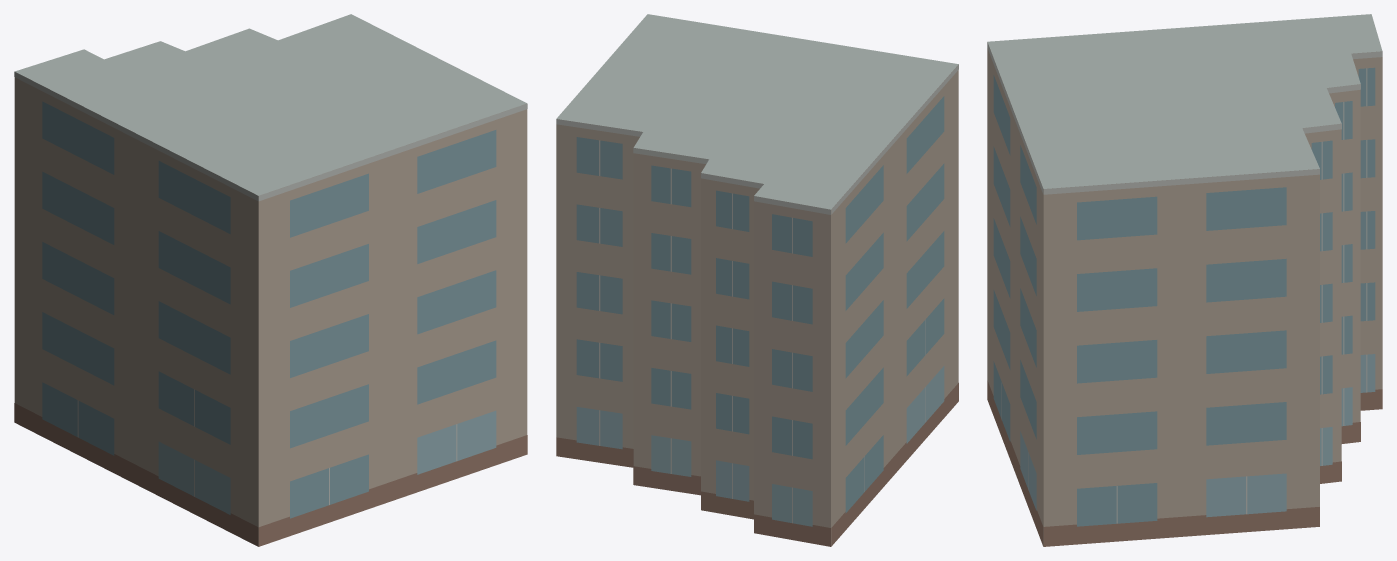
Rendered from survey-upis-32678207.glb.
3 views of the same model, side by side, from view 1: azimuth 30°, elevation 25°; view 2: azimuth 150°, elevation 25°; view 3: azimuth 270°, elevation 25° (orthographic). The views are drawn at different scales.
Parts seen in each view (by area): view 1: survey-upis-32678207.tmp; view 2: survey-upis-32678207.tmp; view 3: survey-upis-32678207.tmp.
Part boxes in pixels (x1,y1,x2,y2): survey-upis-32678207.tmp: (14, 14, 527, 546); survey-upis-32678207.tmp: (556, 14, 958, 546); survey-upis-32678207.tmp: (987, 14, 1382, 546).
Bounding box in the file's own units: 16.01 × 15.25 × 15.27.
